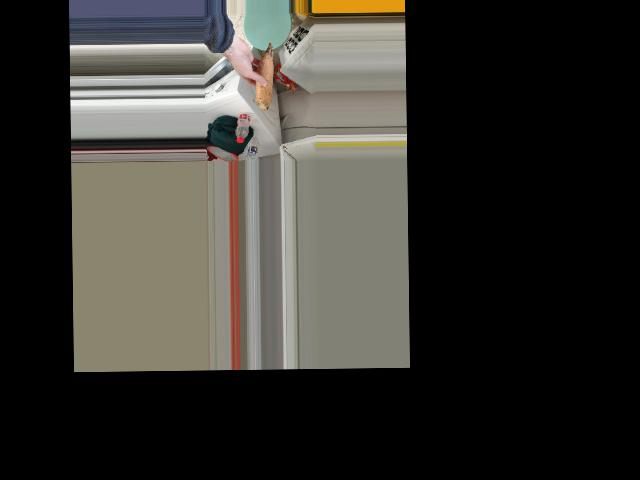sweet_potato: (250, 41, 278, 113)
